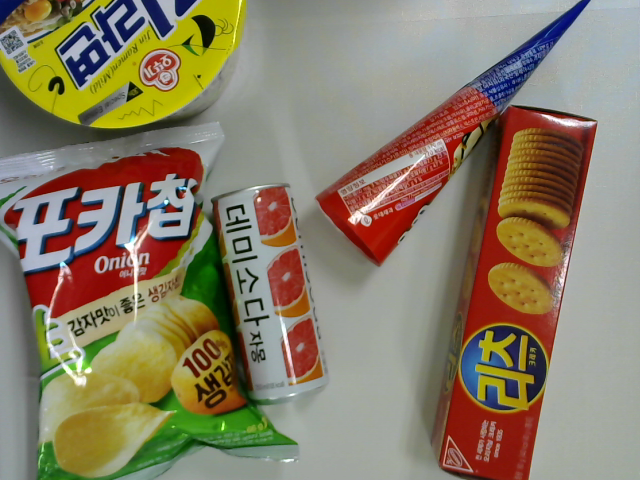Demisoda_Grapefruit_Can_250ml: (212, 175, 332, 410)
Jinlamyeon_Mild_Taste_Large_Cup: (1, 1, 253, 136)
Pocachip_Onion: (1, 117, 304, 479)
Ritz_Cracker: (421, 102, 601, 480)
World_Cone_Banila: (312, 1, 607, 272)
